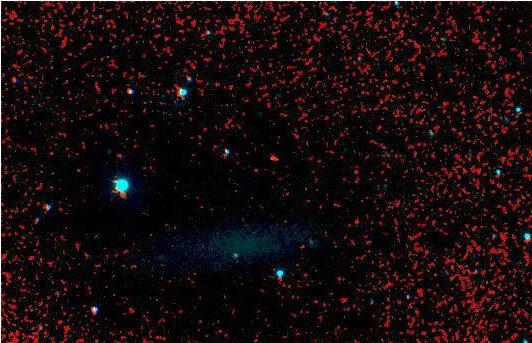star: (262, 141, 292, 171)
